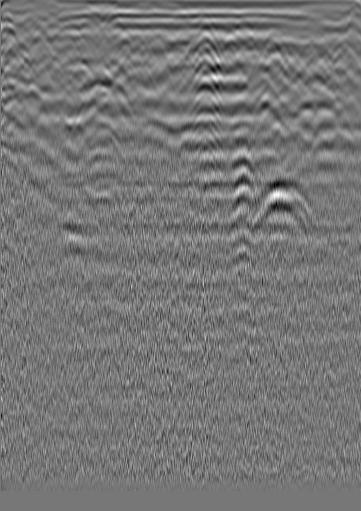가스: (54, 213, 92, 244)
상수: (313, 22, 333, 42)
오수: (19, 13, 45, 44)
우수: (190, 31, 210, 51)
